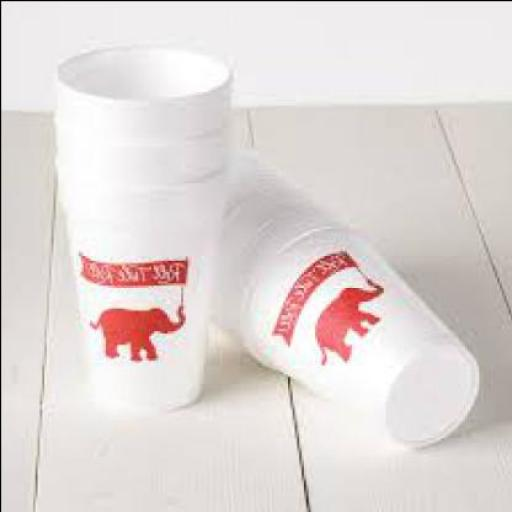paper: (55, 40, 234, 408), (236, 204, 485, 437), (212, 141, 321, 333)
